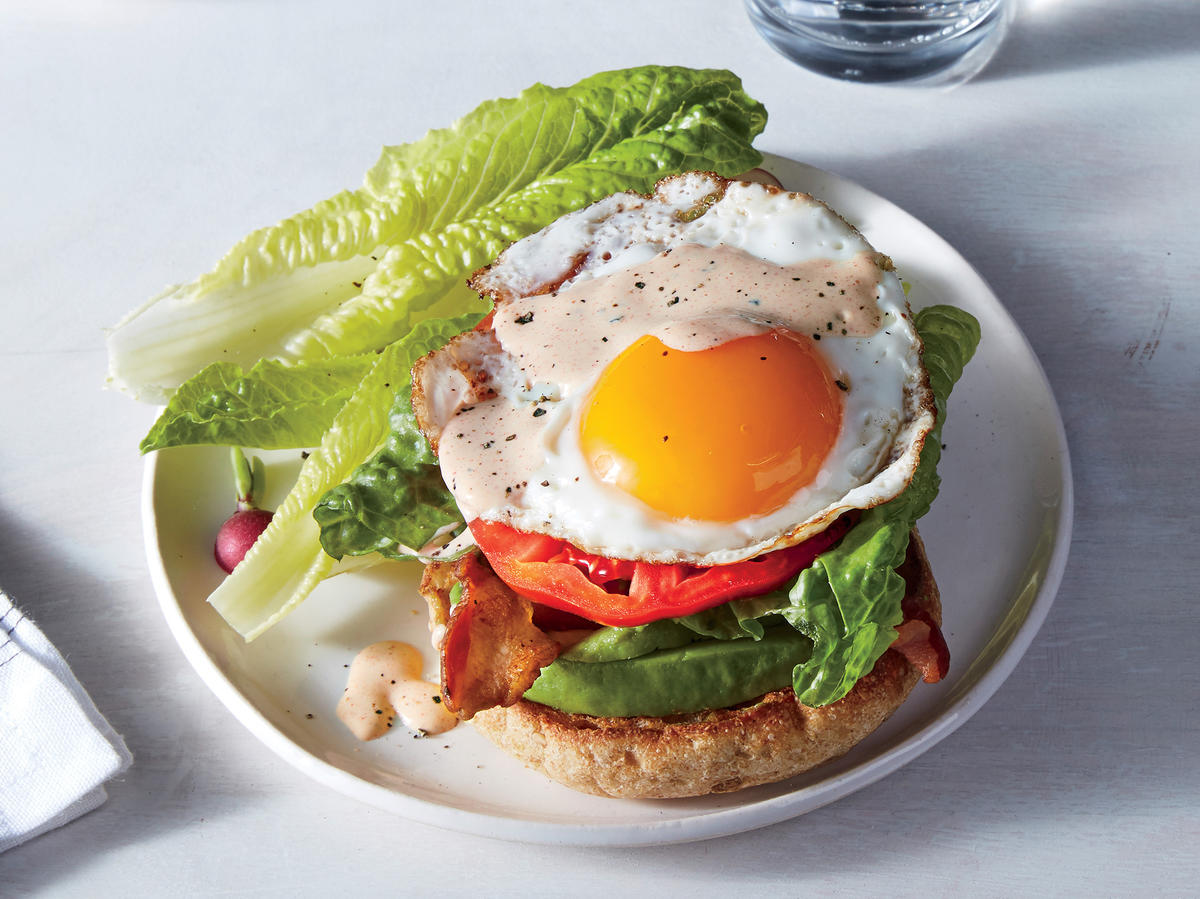chopped lettuce: (172, 242, 378, 527)
fried egg: (487, 246, 860, 552)
